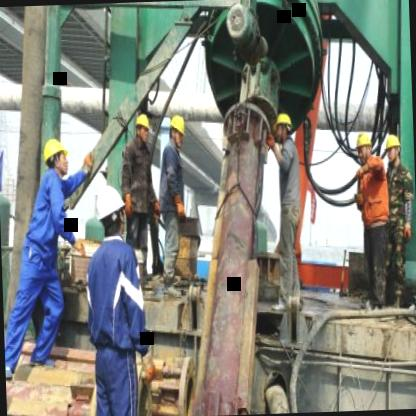helmet: (96, 182, 127, 240), (42, 135, 70, 178), (167, 110, 187, 150), (353, 127, 374, 165), (272, 108, 294, 144), (385, 127, 405, 164), (134, 110, 154, 146)
